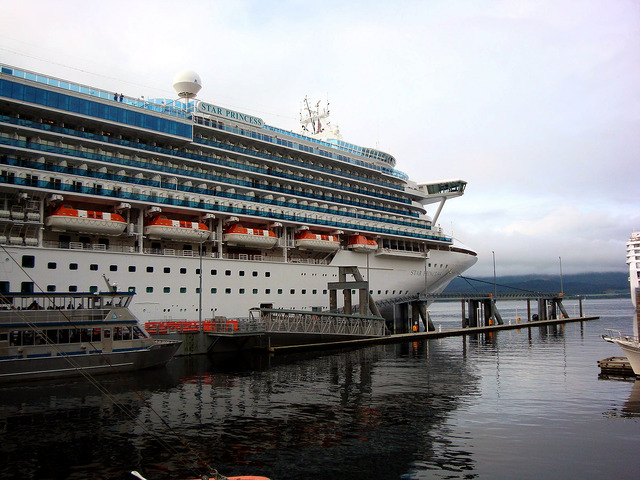boat: (3, 276, 189, 373)
cruise_ship: (1, 58, 476, 330)
